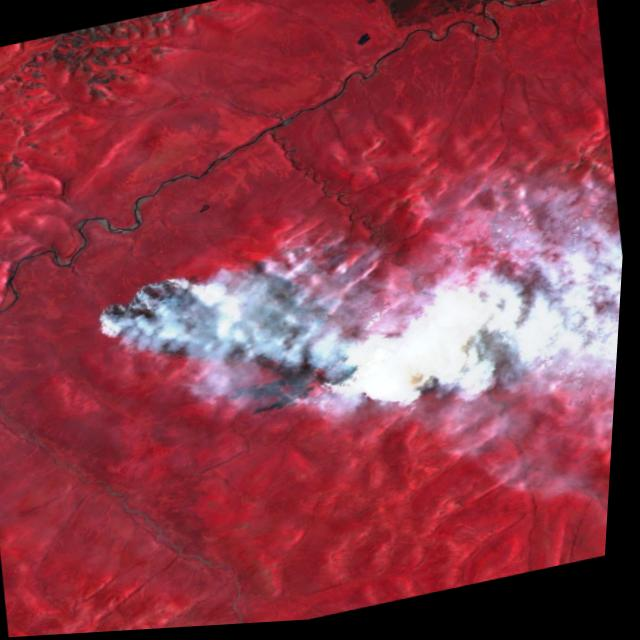fire: (82, 235, 396, 451)
